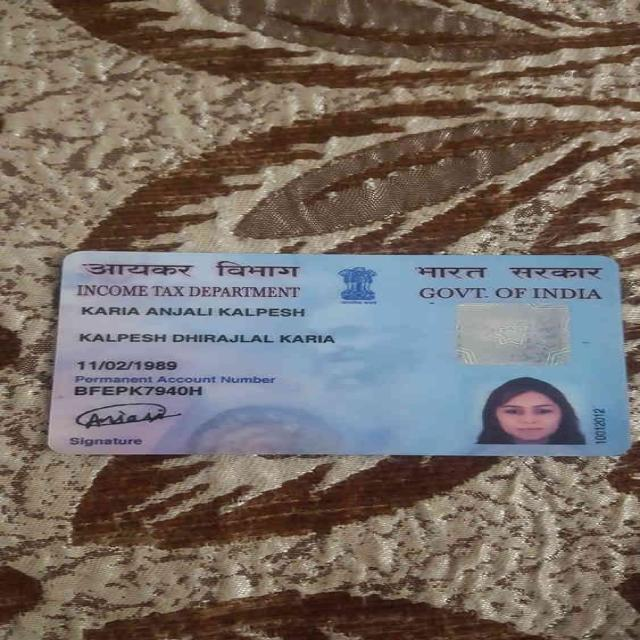pan_card: (50, 251, 620, 454)
